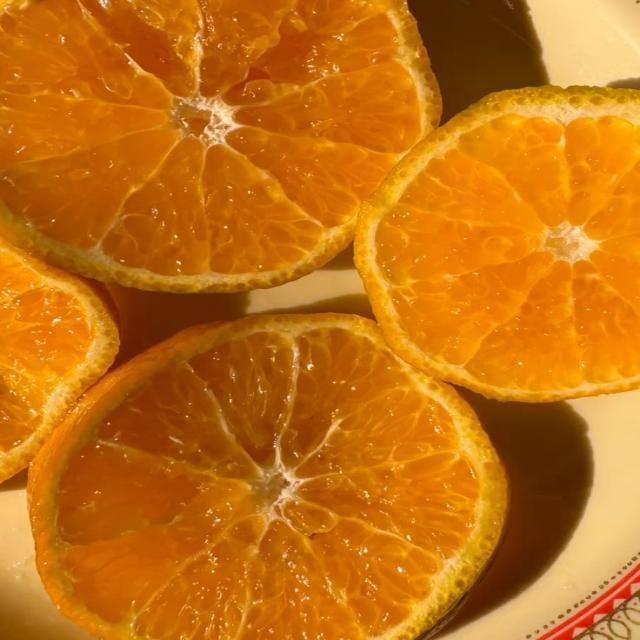orange: (29, 314, 505, 639), (0, 0, 439, 291), (356, 87, 639, 401), (0, 240, 118, 482)
